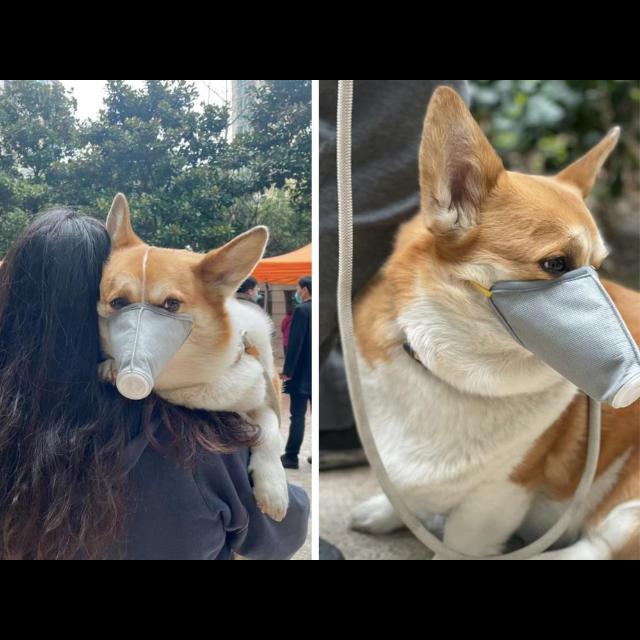masks: (484, 266, 638, 404), (102, 313, 188, 401)
